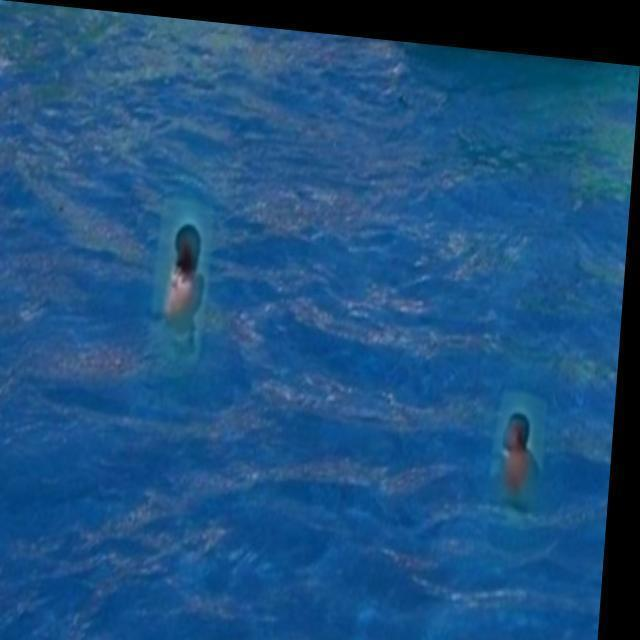swimming: (147, 207, 219, 356), (480, 379, 543, 517)
